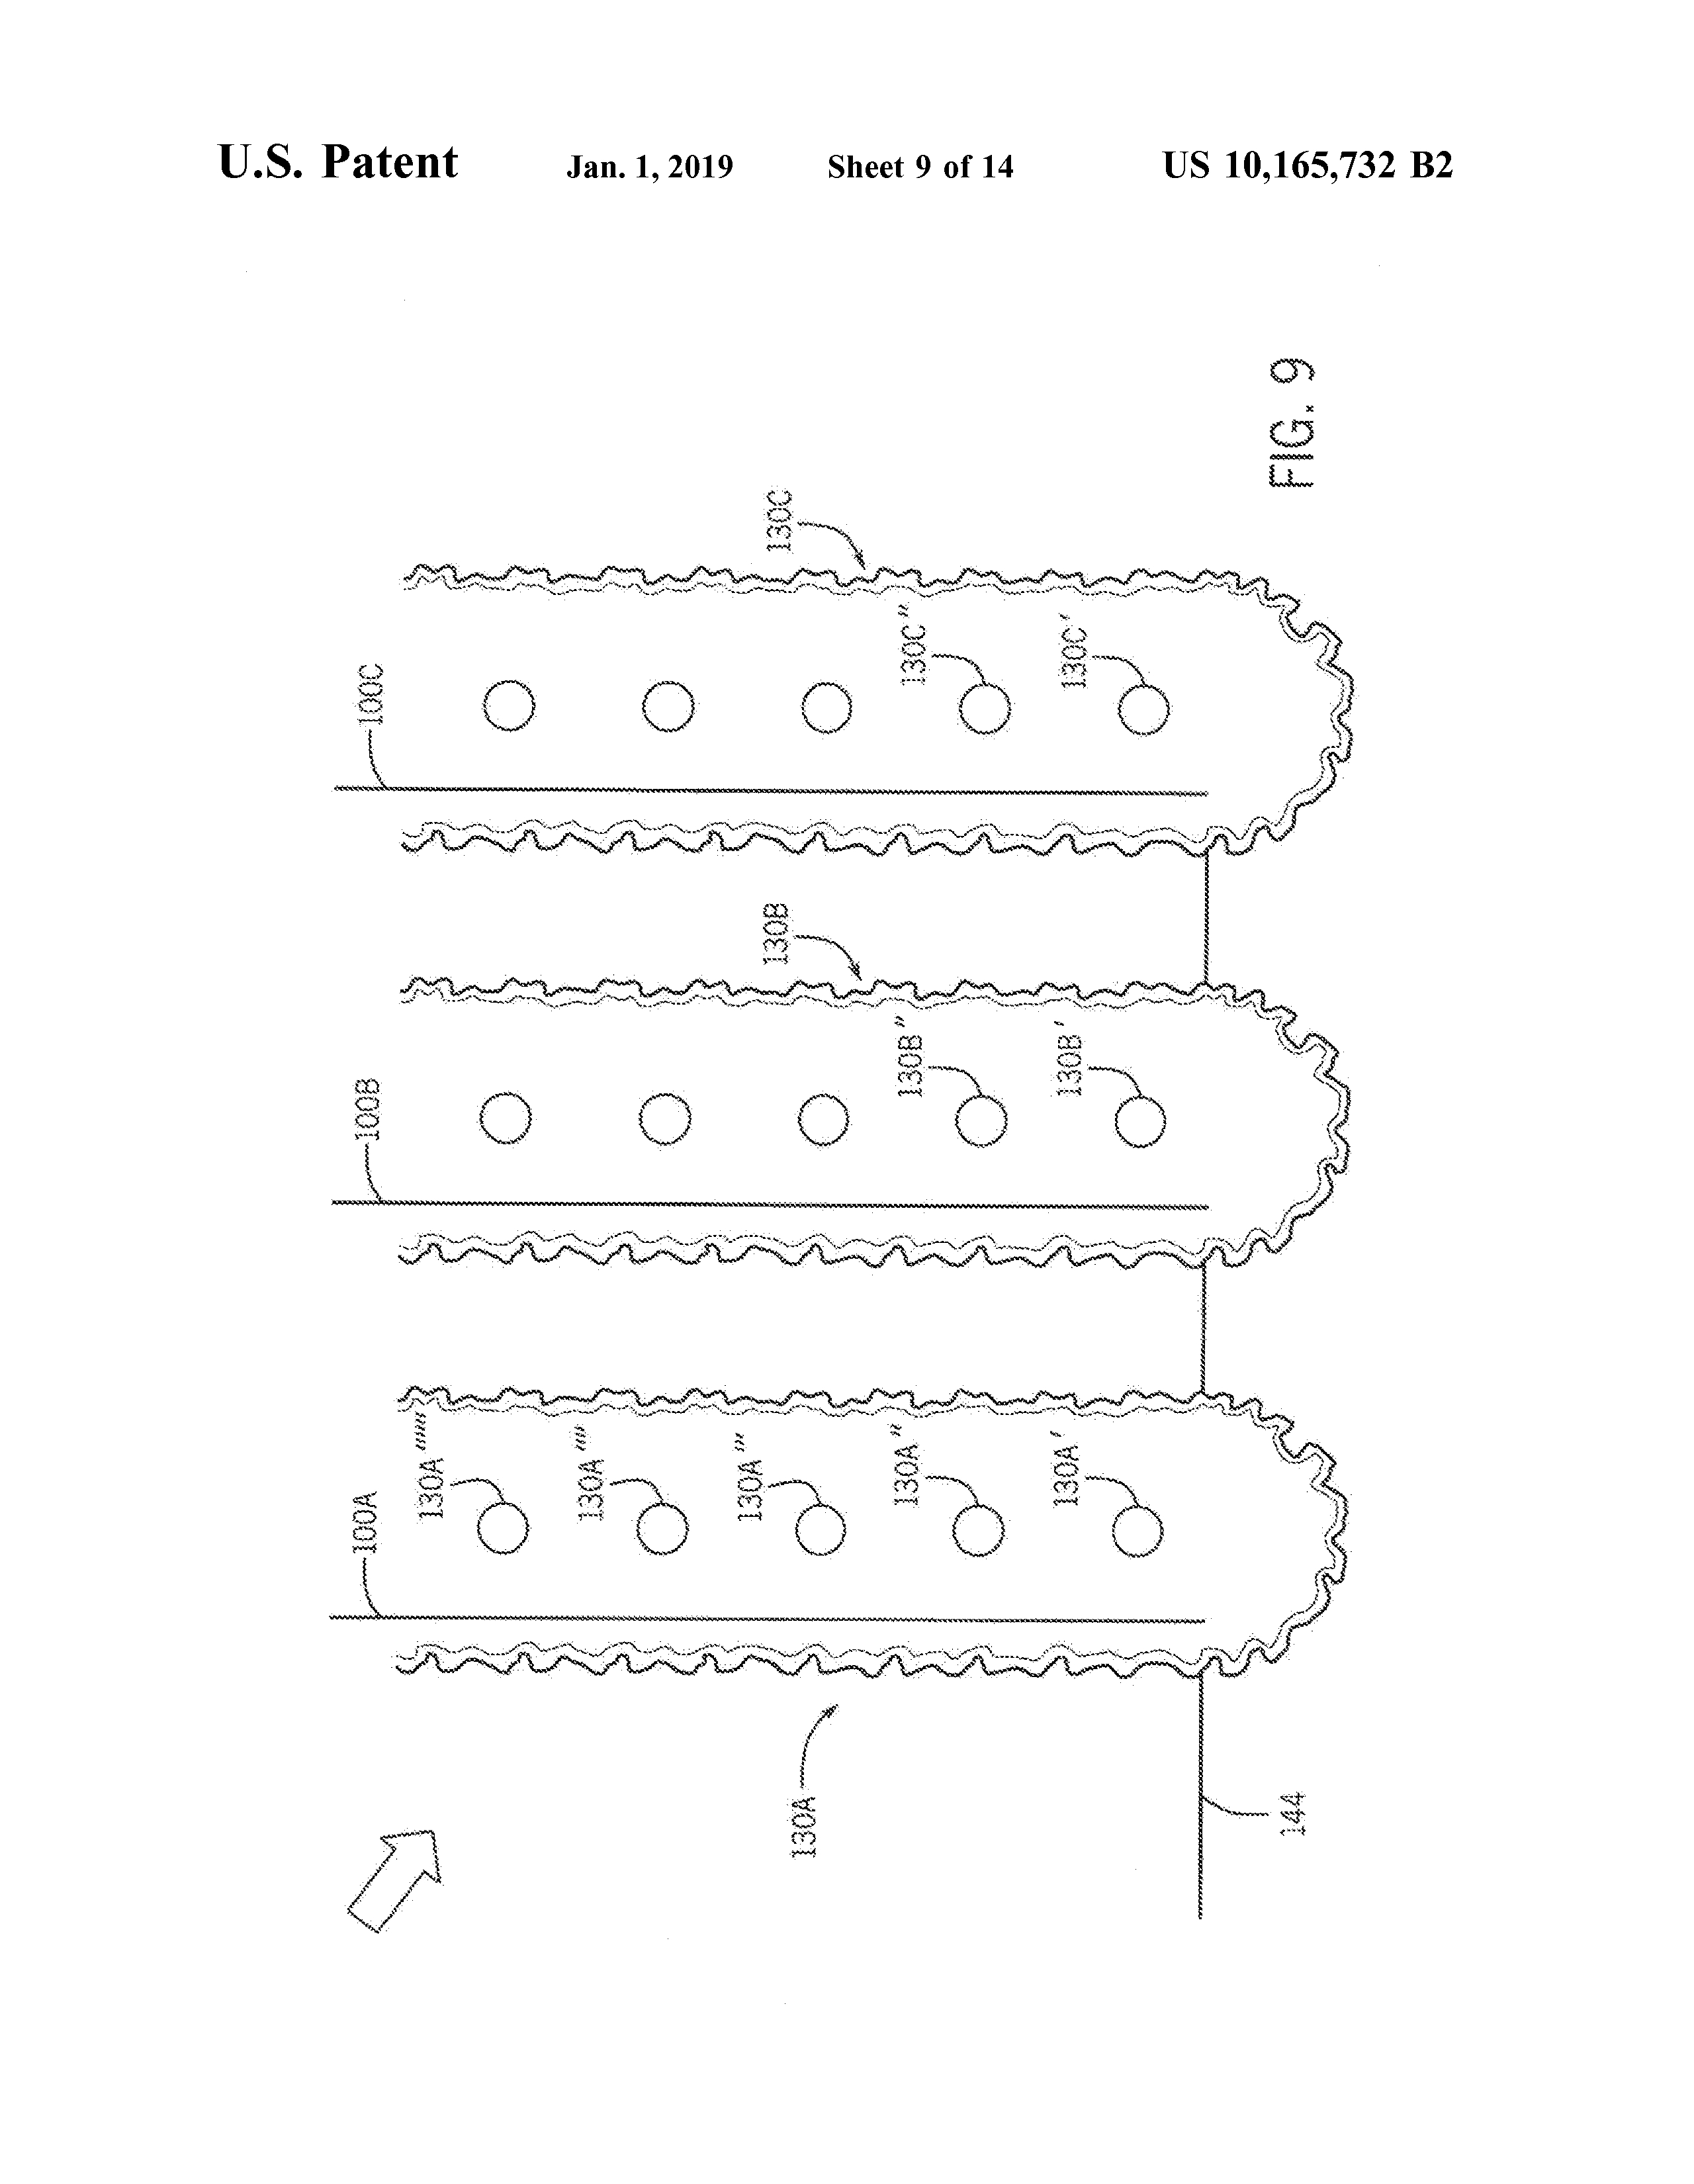patent image: (304, 331, 1400, 2005)
